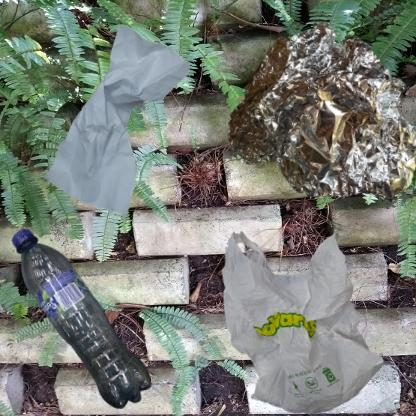aluminio: (213, 10, 416, 224)
bolsa: (213, 213, 395, 416)
botella: (10, 213, 164, 416)
papel: (10, 10, 236, 252)
